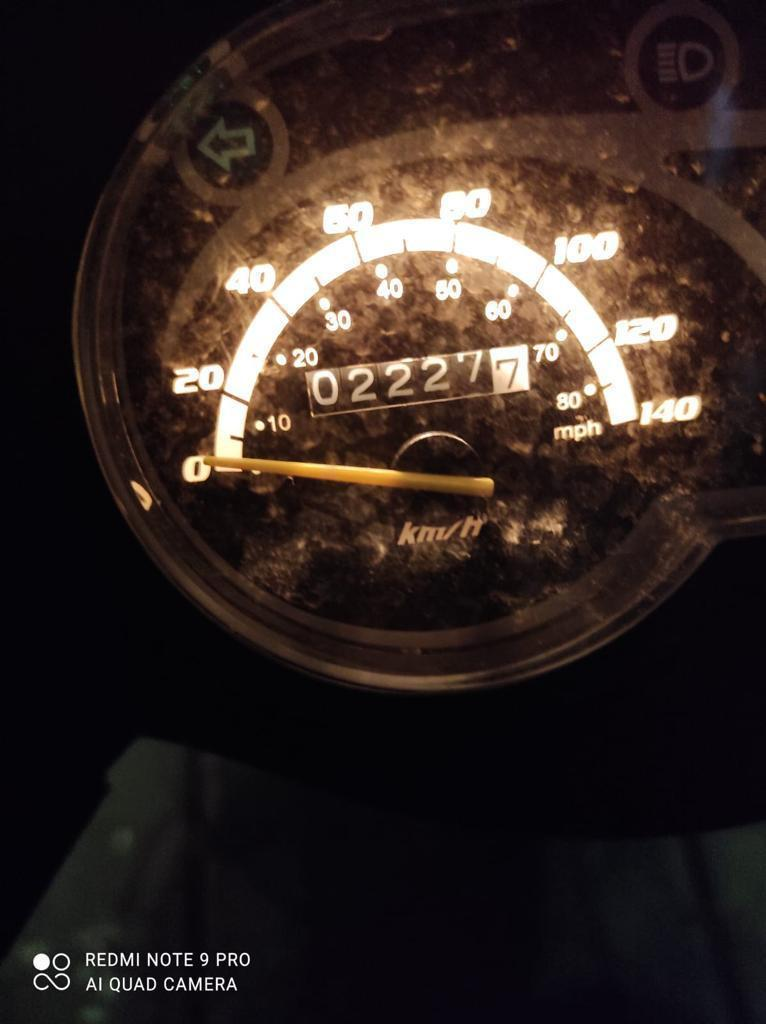0: (311, 369, 339, 406), (304, 347, 319, 367)
2: (346, 367, 377, 403), (384, 362, 415, 398), (421, 356, 450, 393)
7: (456, 348, 483, 383), (496, 358, 519, 390)
odometer: (303, 342, 531, 421)
